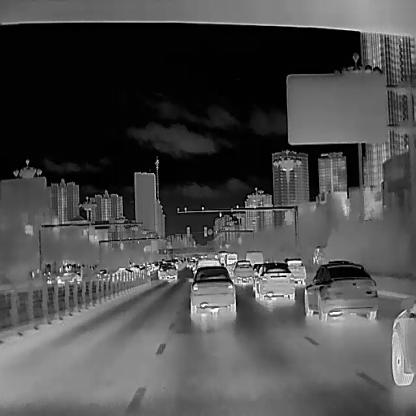bus: (224, 252, 238, 266), (312, 245, 320, 264)
car: (304, 259, 378, 321), (188, 265, 235, 315), (392, 302, 416, 384), (254, 262, 294, 300), (284, 256, 306, 284), (232, 259, 252, 284), (194, 258, 219, 274), (112, 266, 134, 281), (55, 272, 82, 284), (157, 262, 167, 278), (166, 264, 177, 278)
truck: (244, 249, 262, 266)
